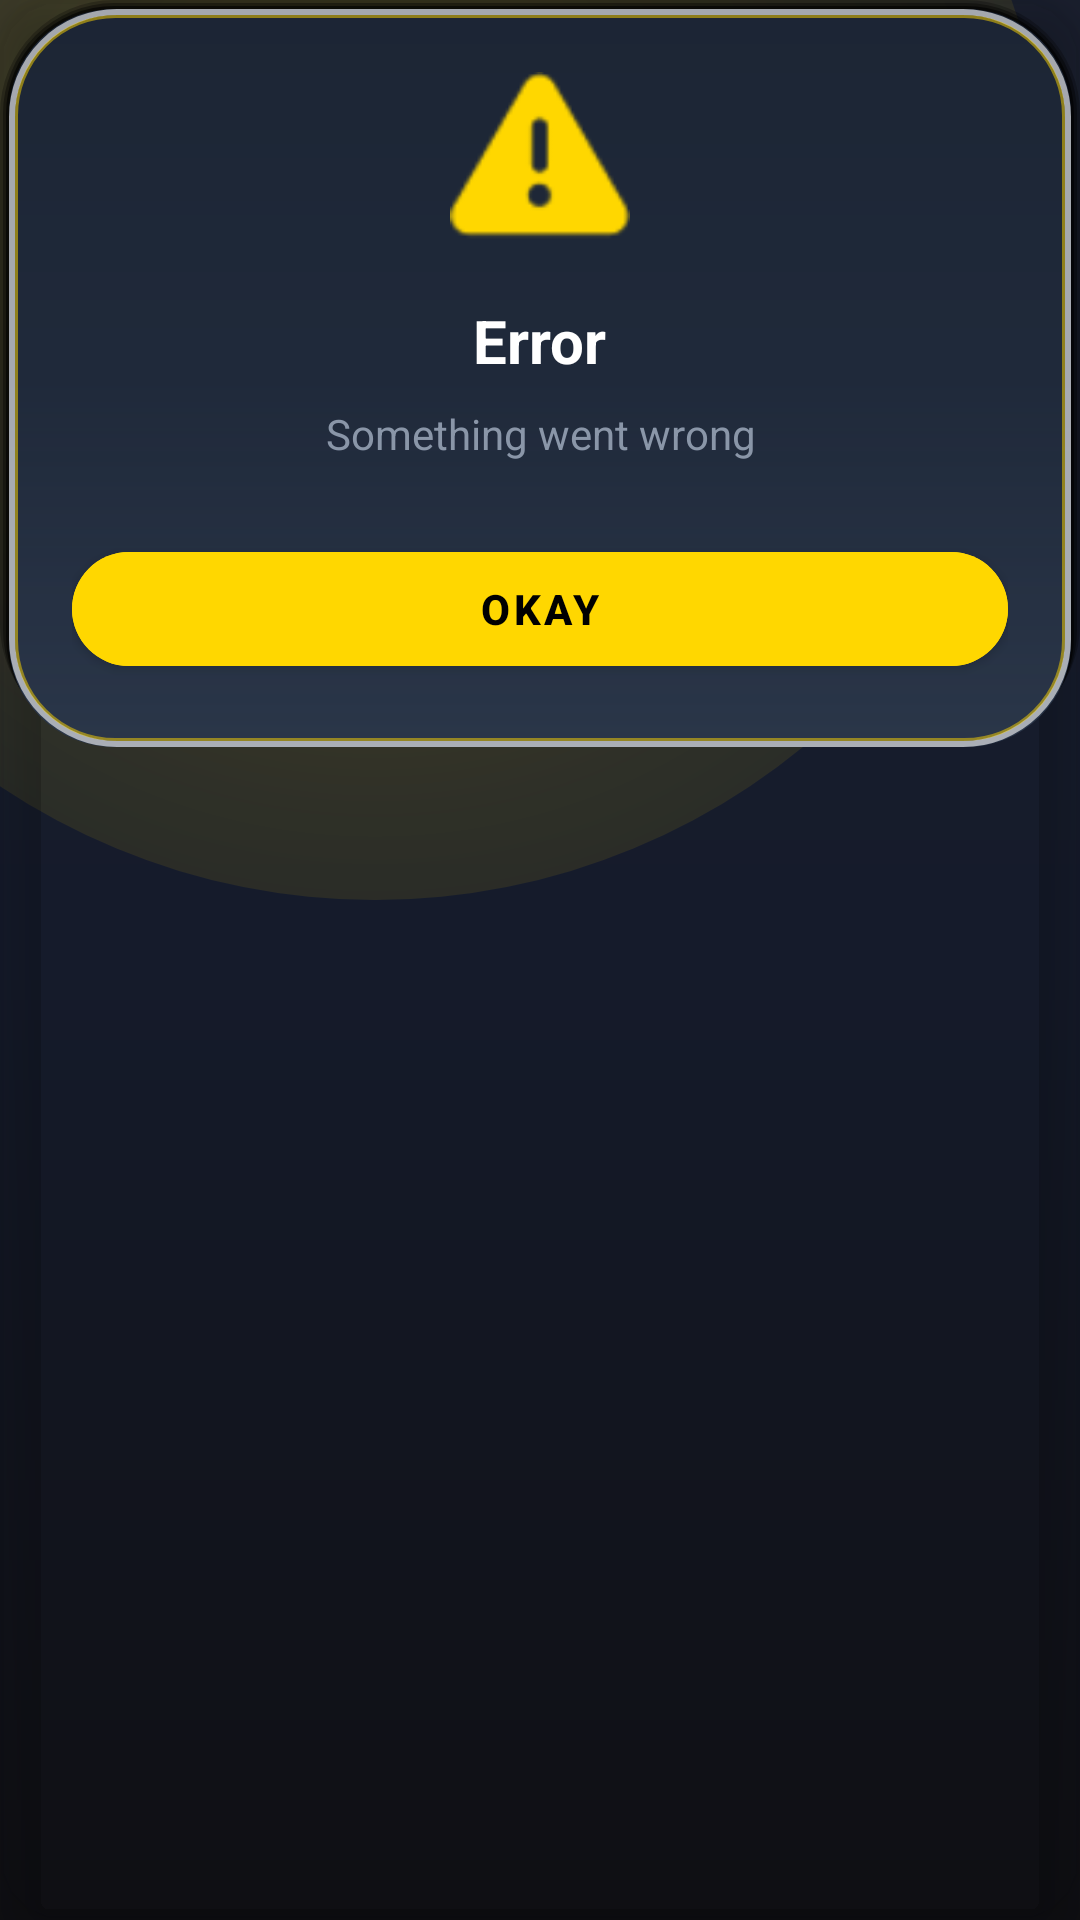

Icon bounding boxes for this 1080*1920 phone screenshot, format (x1, y1, x2, y2):
alert: (450, 72, 630, 236)
